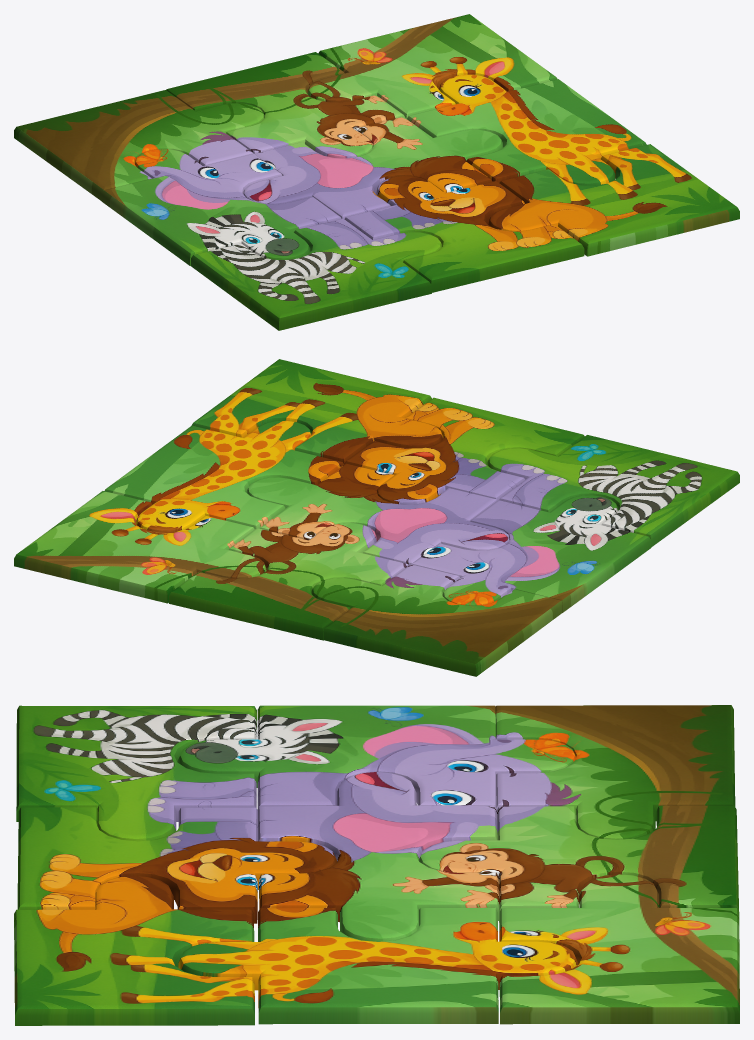
Rendered from fin.fbx.
3 views of the same model, one above another, from view 1: azimuth 30°, elevation 25°; view 2: azimuth 150°, elevation 25°; view 3: azimuth 270°, elevation 25° (orthographic). The views are drawn at different scales.
Visible parts, largest first — view 1: polySurface9.001, polySurface5.001, polySurface3.001, polySurface4.001, polySurface6.001, polySurface8.001, polySurface1.001, polySurface7.001, polySurface2.001; view 2: polySurface6.001, polySurface5.001, polySurface1.001, polySurface4.001, polySurface9.001, polySurface3.001, polySurface2.001, polySurface7.001, polySurface8.001; view 3: polySurface4.001, polySurface3.001, polySurface1.001, polySurface5.001, polySurface7.001, polySurface9.001, polySurface6.001, polySurface8.001, polySurface2.001.
Boxes of the visible parts, x1,y1,x2,y2 form: polySurface9.001: (191, 218, 441, 330); polySurface5.001: (101, 149, 341, 265); polySurface3.001: (488, 144, 739, 256); polySurface4.001: (407, 74, 646, 185); polySurface6.001: (14, 90, 264, 200); polySurface8.001: (344, 176, 584, 292); polySurface1.001: (307, 14, 557, 118); polySurface7.001: (243, 116, 502, 218); polySurface2.001: (166, 52, 405, 158); polySurface6.001: (311, 564, 562, 676); polySurface5.001: (411, 495, 651, 612); polySurface1.001: (14, 491, 266, 603); polySurface4.001: (104, 420, 343, 532); polySurface9.001: (487, 435, 739, 547); polySurface3.001: (191, 359, 442, 463); polySurface2.001: (169, 523, 408, 640); polySurface7.001: (246, 463, 509, 564); polySurface8.001: (344, 397, 584, 504); polySurface4.001: (178, 907, 578, 1024); polySurface3.001: (14, 875, 254, 1025); polySurface1.001: (499, 874, 739, 1024); polySurface5.001: (177, 705, 575, 808); polySurface7.001: (257, 772, 499, 941); polySurface9.001: (16, 705, 256, 841); polySurface6.001: (495, 705, 735, 839); polySurface8.001: (17, 807, 337, 923); polySurface2.001: (418, 805, 738, 922).
Size of the model in its own units: 3018 by 82.12 by 3025.
Materials: 1 (1 with a texture image).
